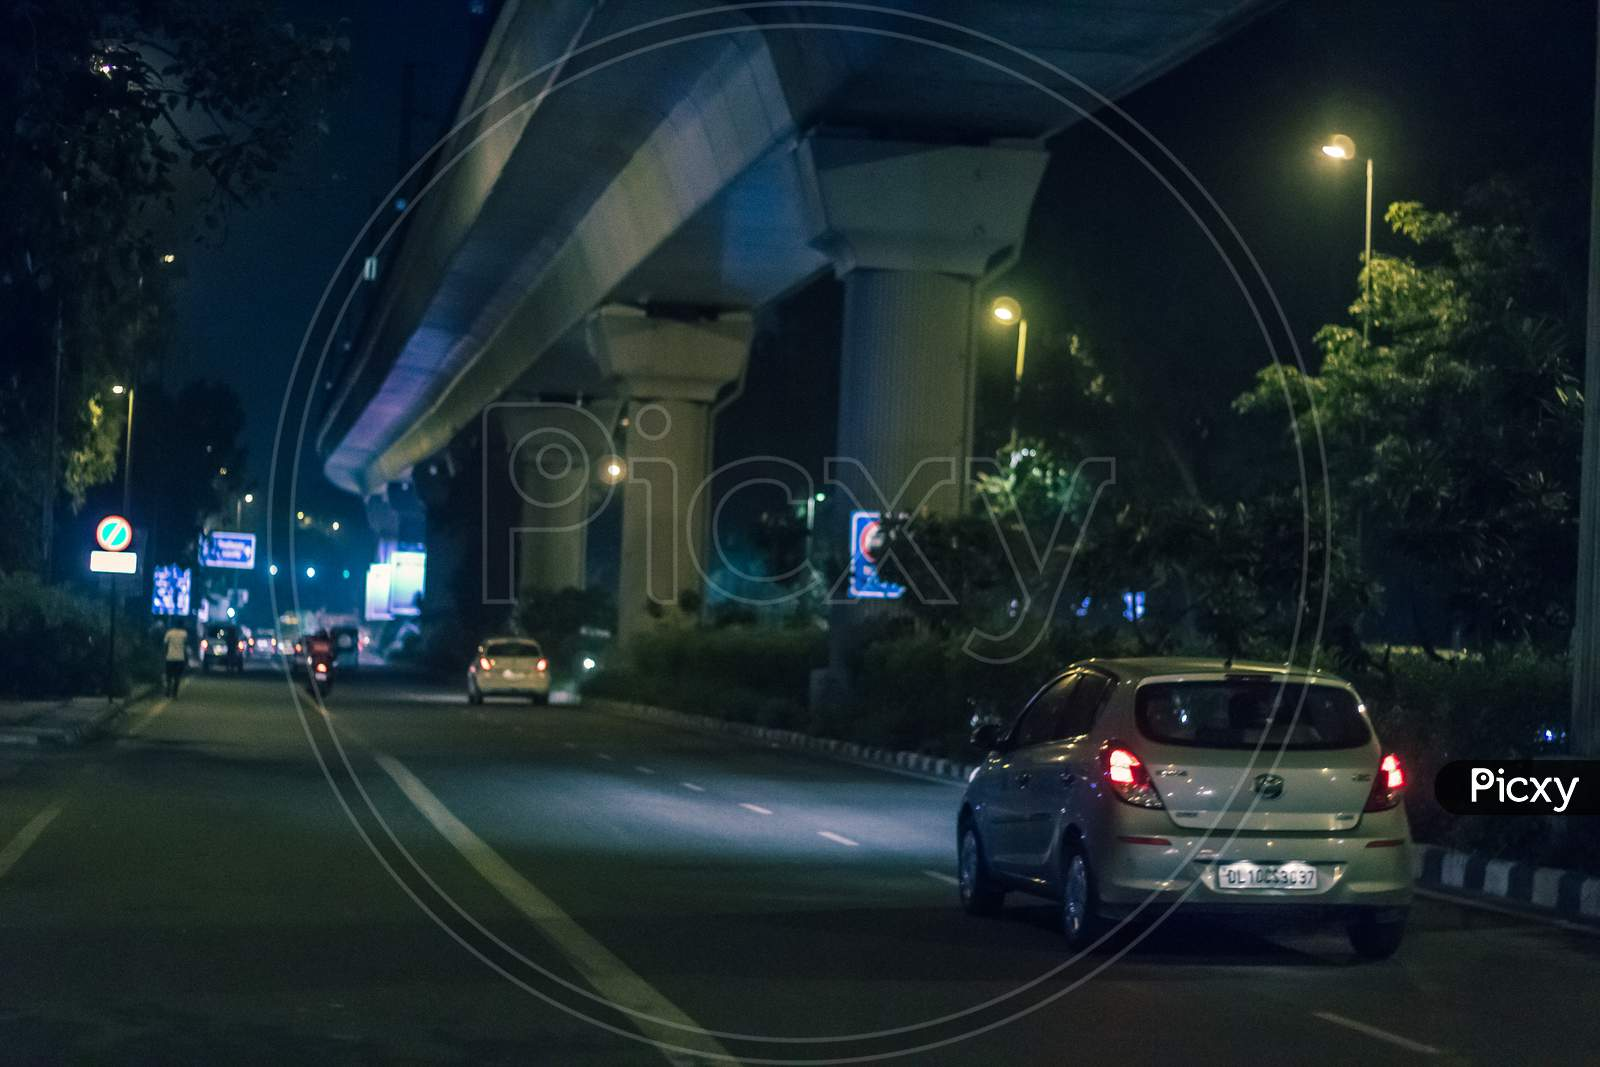bike: (307, 634, 333, 701)
car: (956, 657, 1418, 965), (467, 636, 551, 709), (196, 620, 248, 676), (248, 632, 279, 661)
